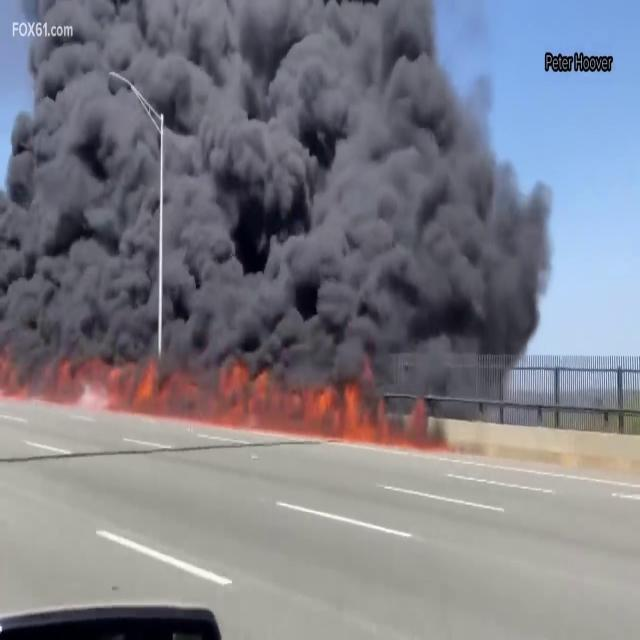Fire: (0, 350, 444, 432), (0, 350, 304, 420), (136, 356, 404, 435), (203, 363, 431, 449), (0, 343, 158, 413)
Smoke: (0, 1, 560, 390)
